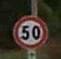limite 50: (12, 14, 49, 48)
